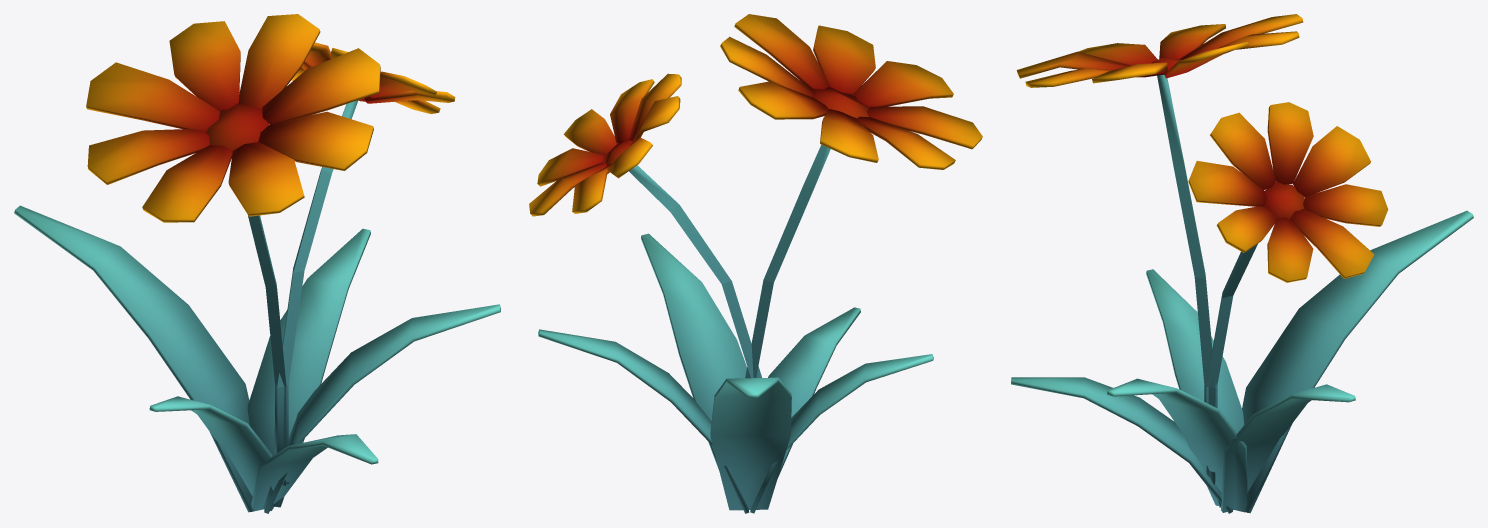
File: plain_flower_0.fbx
The picture shows the model from 3 angles, left to right: view 1: azimuth 30°, elevation 25°; view 2: azimuth 150°, elevation 25°; view 3: azimuth 270°, elevation 25°; orthographic projection. The views are drawn at different scales.
Parts seen in each view (by area): view 1: Plain Flower 0; view 2: Plain Flower 0; view 3: Plain Flower 0.
Boxes of the visible parts, x1,y1,x2,y2 form: Plain Flower 0: (14, 14, 500, 513); Plain Flower 0: (529, 14, 982, 513); Plain Flower 0: (1011, 14, 1473, 513).
Bounding box in the file's own units: 98.41 × 118 × 104.
1 material, 1 textured.
